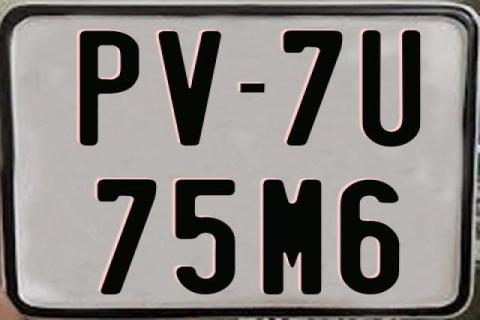0: (175, 180, 240, 300), (338, 178, 400, 294), (98, 177, 158, 295), (282, 31, 342, 147)
M: (261, 178, 320, 296)
P: (78, 28, 138, 143)
U: (360, 28, 418, 146)
V: (155, 29, 223, 147)
